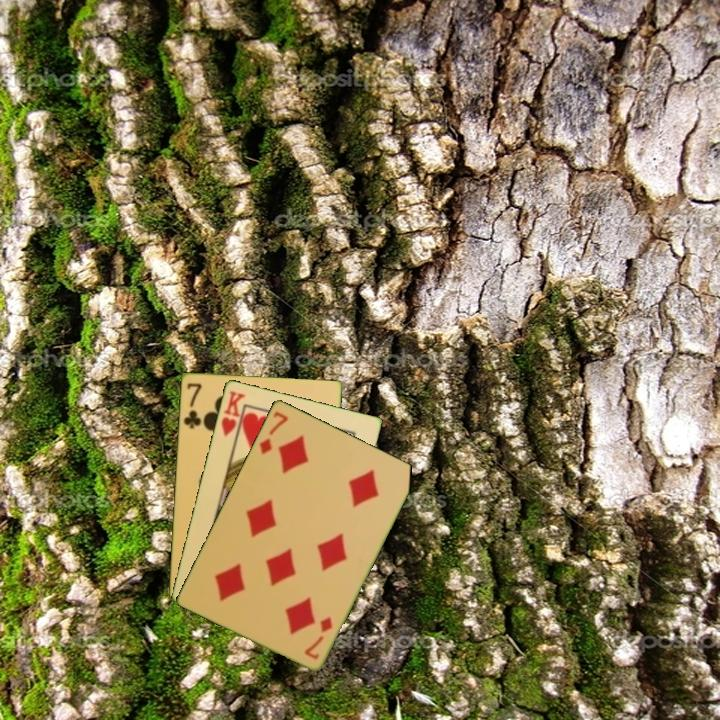7c: (180, 379, 204, 431)
7d: (256, 407, 291, 457), (301, 613, 335, 662)
Kh: (217, 387, 247, 444)
